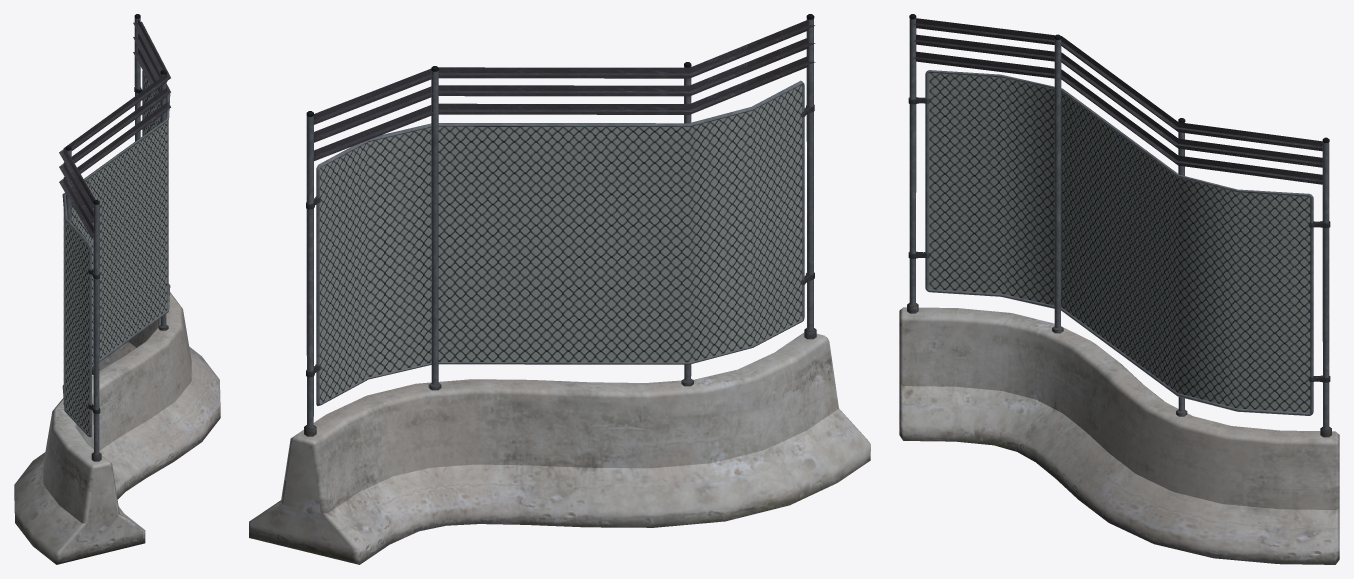
The model's file is Fence_C_B.fbx.
3 views of the same model, side by side, from view 1: azimuth 30°, elevation 25°; view 2: azimuth 150°, elevation 25°; view 3: azimuth 270°, elevation 25° (orthographic). The views are drawn at different scales.
Parts seen in each view (by area): view 1: Fence_C_B; view 2: Fence_C_B; view 3: Fence_C_B.
Boxes of the visible parts, x1,y1,x2,y2 form: Fence_C_B: [14, 14, 220, 564]; Fence_C_B: [249, 14, 870, 564]; Fence_C_B: [899, 14, 1339, 564].
Size of the model in its own units: 280 by 302 by 300.
